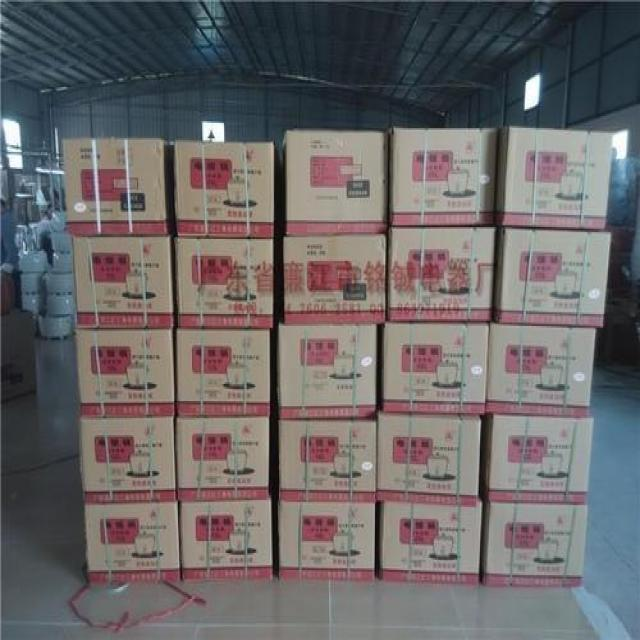box: (497, 126, 616, 237), (495, 223, 613, 329), (483, 314, 601, 417), (382, 222, 497, 326), (384, 123, 496, 229), (275, 314, 380, 421), (382, 309, 489, 414), (63, 136, 170, 240), (71, 230, 177, 333), (281, 127, 384, 233), (378, 407, 486, 507), (277, 226, 387, 323), (272, 409, 381, 506), (484, 413, 604, 499), (72, 322, 176, 420), (78, 405, 181, 503), (483, 499, 589, 593), (175, 139, 273, 238), (382, 498, 489, 586), (176, 239, 280, 329), (278, 492, 378, 584), (81, 498, 181, 586), (177, 410, 275, 498), (180, 499, 276, 587), (177, 328, 271, 414)
